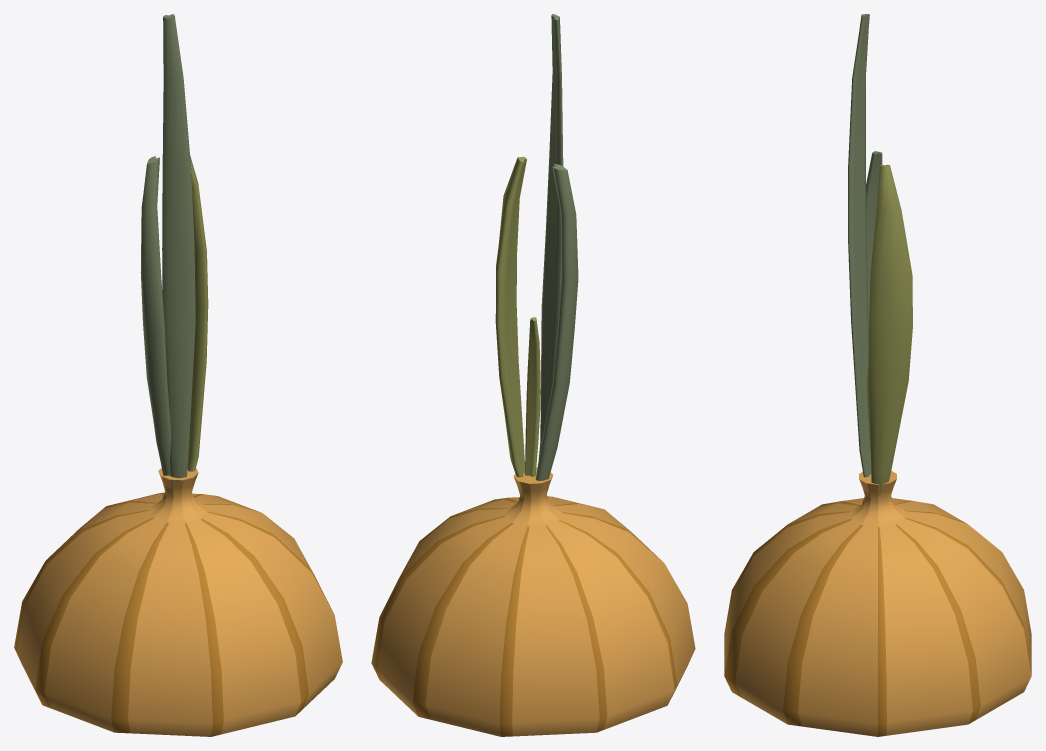
The model's file is PL_onionStage2_01.fbx.
3 renders of one model, left to right at view 1: azimuth 30°, elevation 25°; view 2: azimuth 150°, elevation 25°; view 3: azimuth 270°, elevation 25°, orthographic. The views are drawn at different scales.
Parts seen in each view (by area): view 1: PL_onionStage2_01; view 2: PL_onionStage2_01; view 3: PL_onionStage2_01.
Boxes of the visible parts, x1,y1,x2,y2 form: PL_onionStage2_01: [14, 14, 342, 736]; PL_onionStage2_01: [371, 14, 695, 736]; PL_onionStage2_01: [724, 14, 1031, 736].
Bounding box in the file's own units: 32.97 × 73.24 × 31.36.
Materials: 1 (1 with a texture image).
